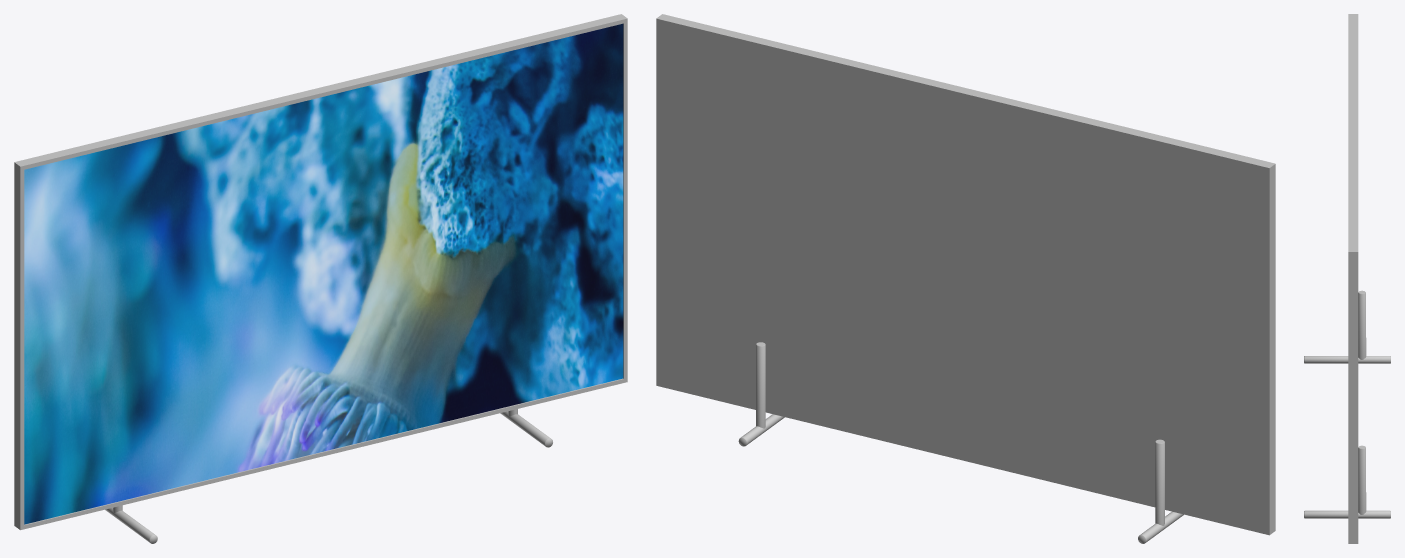
The model's file is tvlg.gltf.
3 views of the same model, side by side, from view 1: azimuth 30°, elevation 25°; view 2: azimuth 150°, elevation 25°; view 3: azimuth 270°, elevation 25° (orthographic). The views are drawn at different scales.
Parts seen in each view (by area): view 1: tv2018; view 2: tv2018; view 3: tv2018.
Boxes of the visible parts, x1,y1,x2,y2 form: tv2018: (14,14,627,543); tv2018: (656,14,1275,543); tv2018: (1304,14,1390,543).
Bounding box in the file's own units: 2 × 1.21 × 0.3087.
